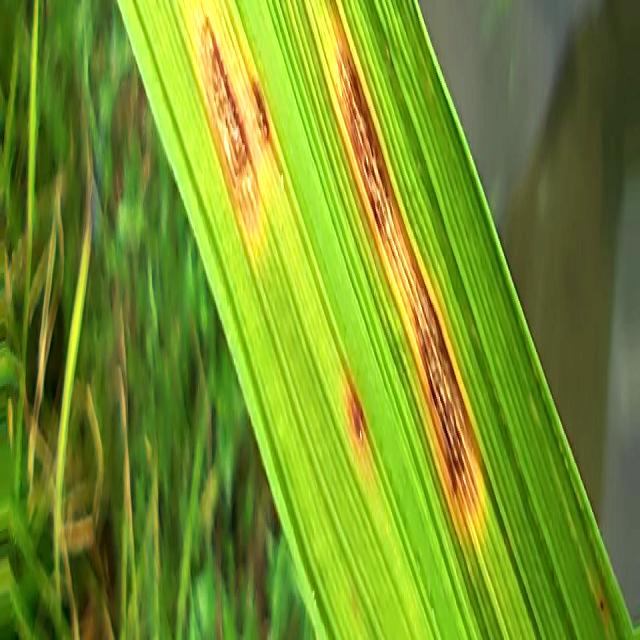NBS: (598, 585, 607, 624)
